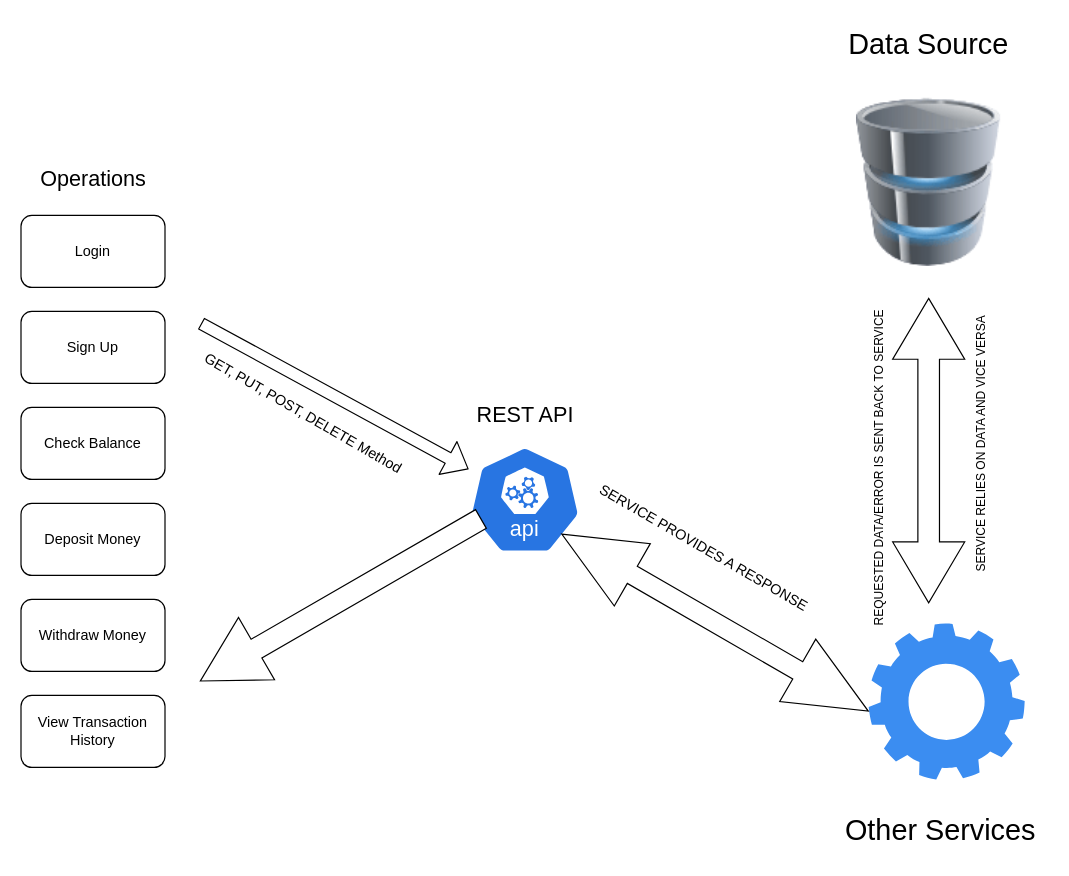
Some shapes in this 1069 by 876 pixel diagram are drawn without their labels. Each missing label, with the centre of its shape:
RESPONSE IS IN A JSON/XML FORMAT: (340,599)
SEND REQUEST TO SERVICE: (714,621)
